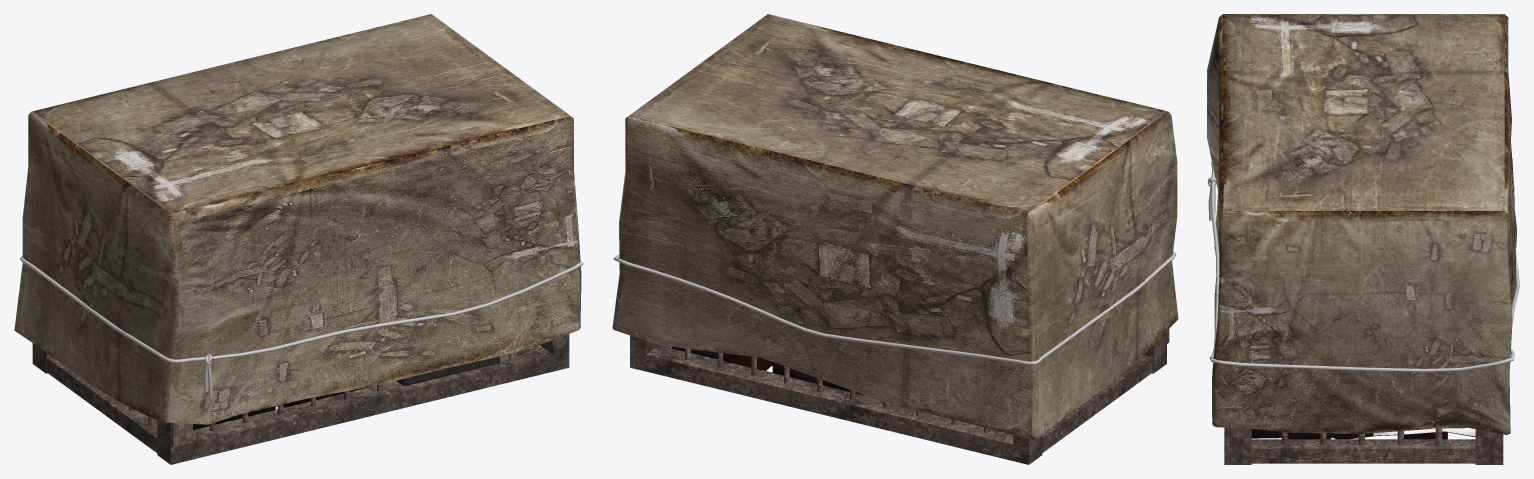
The model's file is cage_04.DAE.
3 views of the same model, side by side, from view 1: azimuth 30°, elevation 25°; view 2: azimuth 150°, elevation 25°; view 3: azimuth 270°, elevation 25° (orthographic).
Parts seen in each view (by area): view 1: Box005, Object048, Line001, Box011, Object046, Object045; view 2: Box005, Object048, Line001, Object045; view 3: Box005, Object048, Line001, Object045.
Boxes of the visible parts, x1,y1,x2,y2 form: Box005: [14, 14, 581, 424]; Object048: [32, 334, 569, 464]; Line001: [20, 256, 583, 398]; Box011: [396, 356, 500, 385]; Object046: [171, 397, 315, 446]; Object045: [193, 347, 532, 429]; Box005: [612, 14, 1178, 439]; Object048: [630, 331, 1166, 464]; Line001: [613, 251, 1176, 365]; Object045: [670, 346, 863, 395]; Box005: [1207, 14, 1516, 434]; Object048: [1224, 427, 1503, 464]; Line001: [1207, 159, 1519, 372]; Object045: [1251, 428, 1475, 439].
Size of the model in its own units: 2.69 by 1.51 by 1.68.
